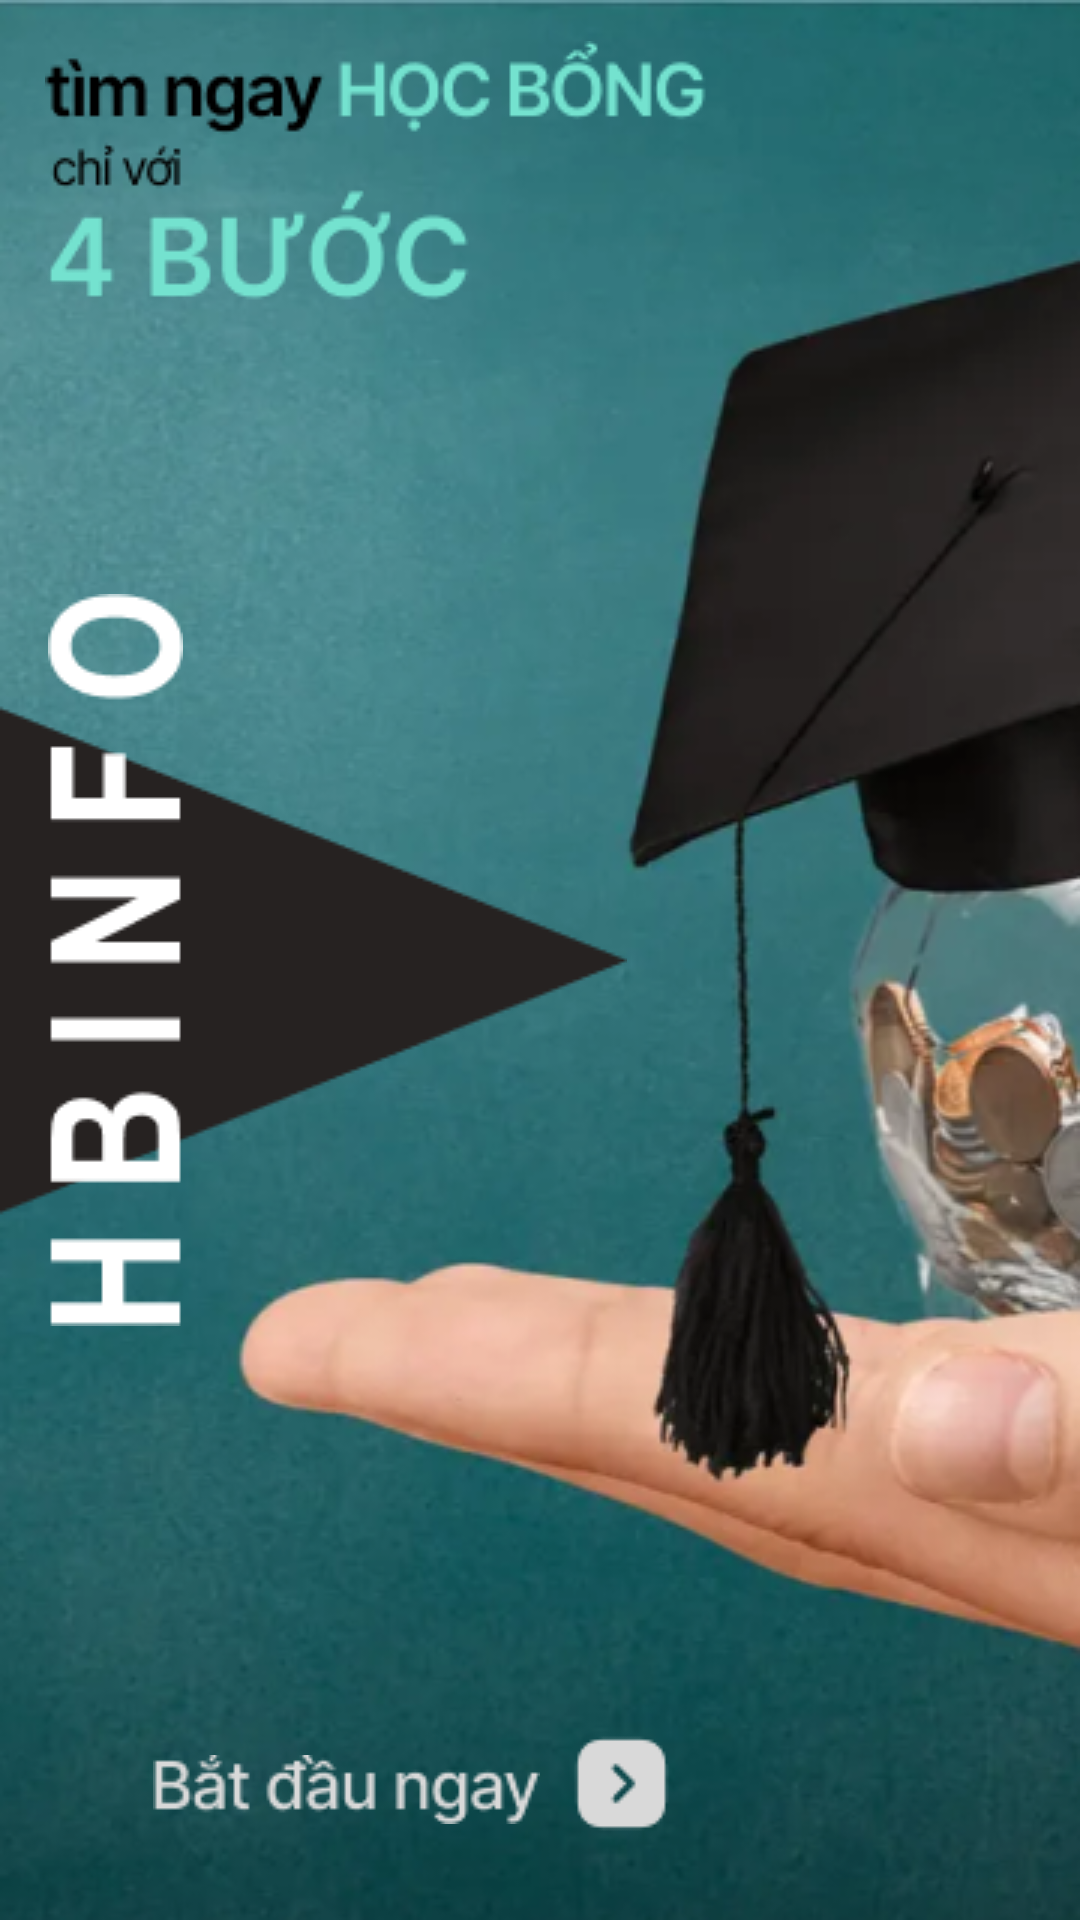

Icon bounding boxes for this 1080*1920 phone screenshot, format box=[x1, y1, x2, y2]:
choose: box=[576, 1738, 667, 1829]
